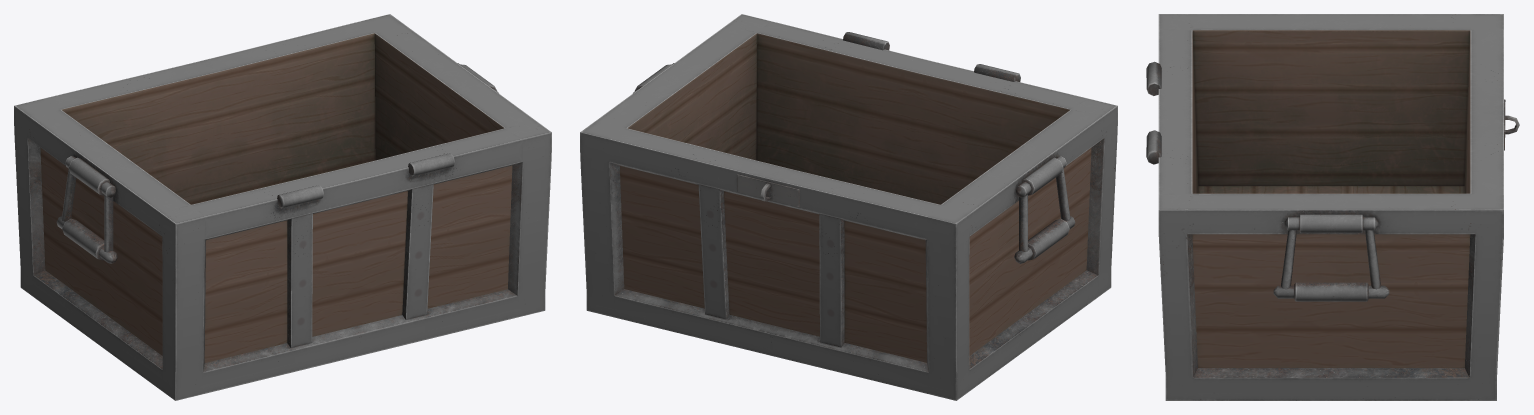
3 renders of one model, left to right at view 1: azimuth 30°, elevation 25°; view 2: azimuth 150°, elevation 25°; view 3: azimuth 270°, elevation 25°, orthographic. The views are drawn at different scales.
Parts seen in each view (by area): view 1: submesh_0; view 2: submesh_0; view 3: submesh_0.
Boxes of the visible parts, x1,y1,x2,y2 form: submesh_0: (14, 14, 551, 400); submesh_0: (580, 14, 1117, 400); submesh_0: (1146, 14, 1519, 400).
Bounding box in the file's own units: 1.11 × 0.4838 × 0.8244.
1 material, 1 textured.
